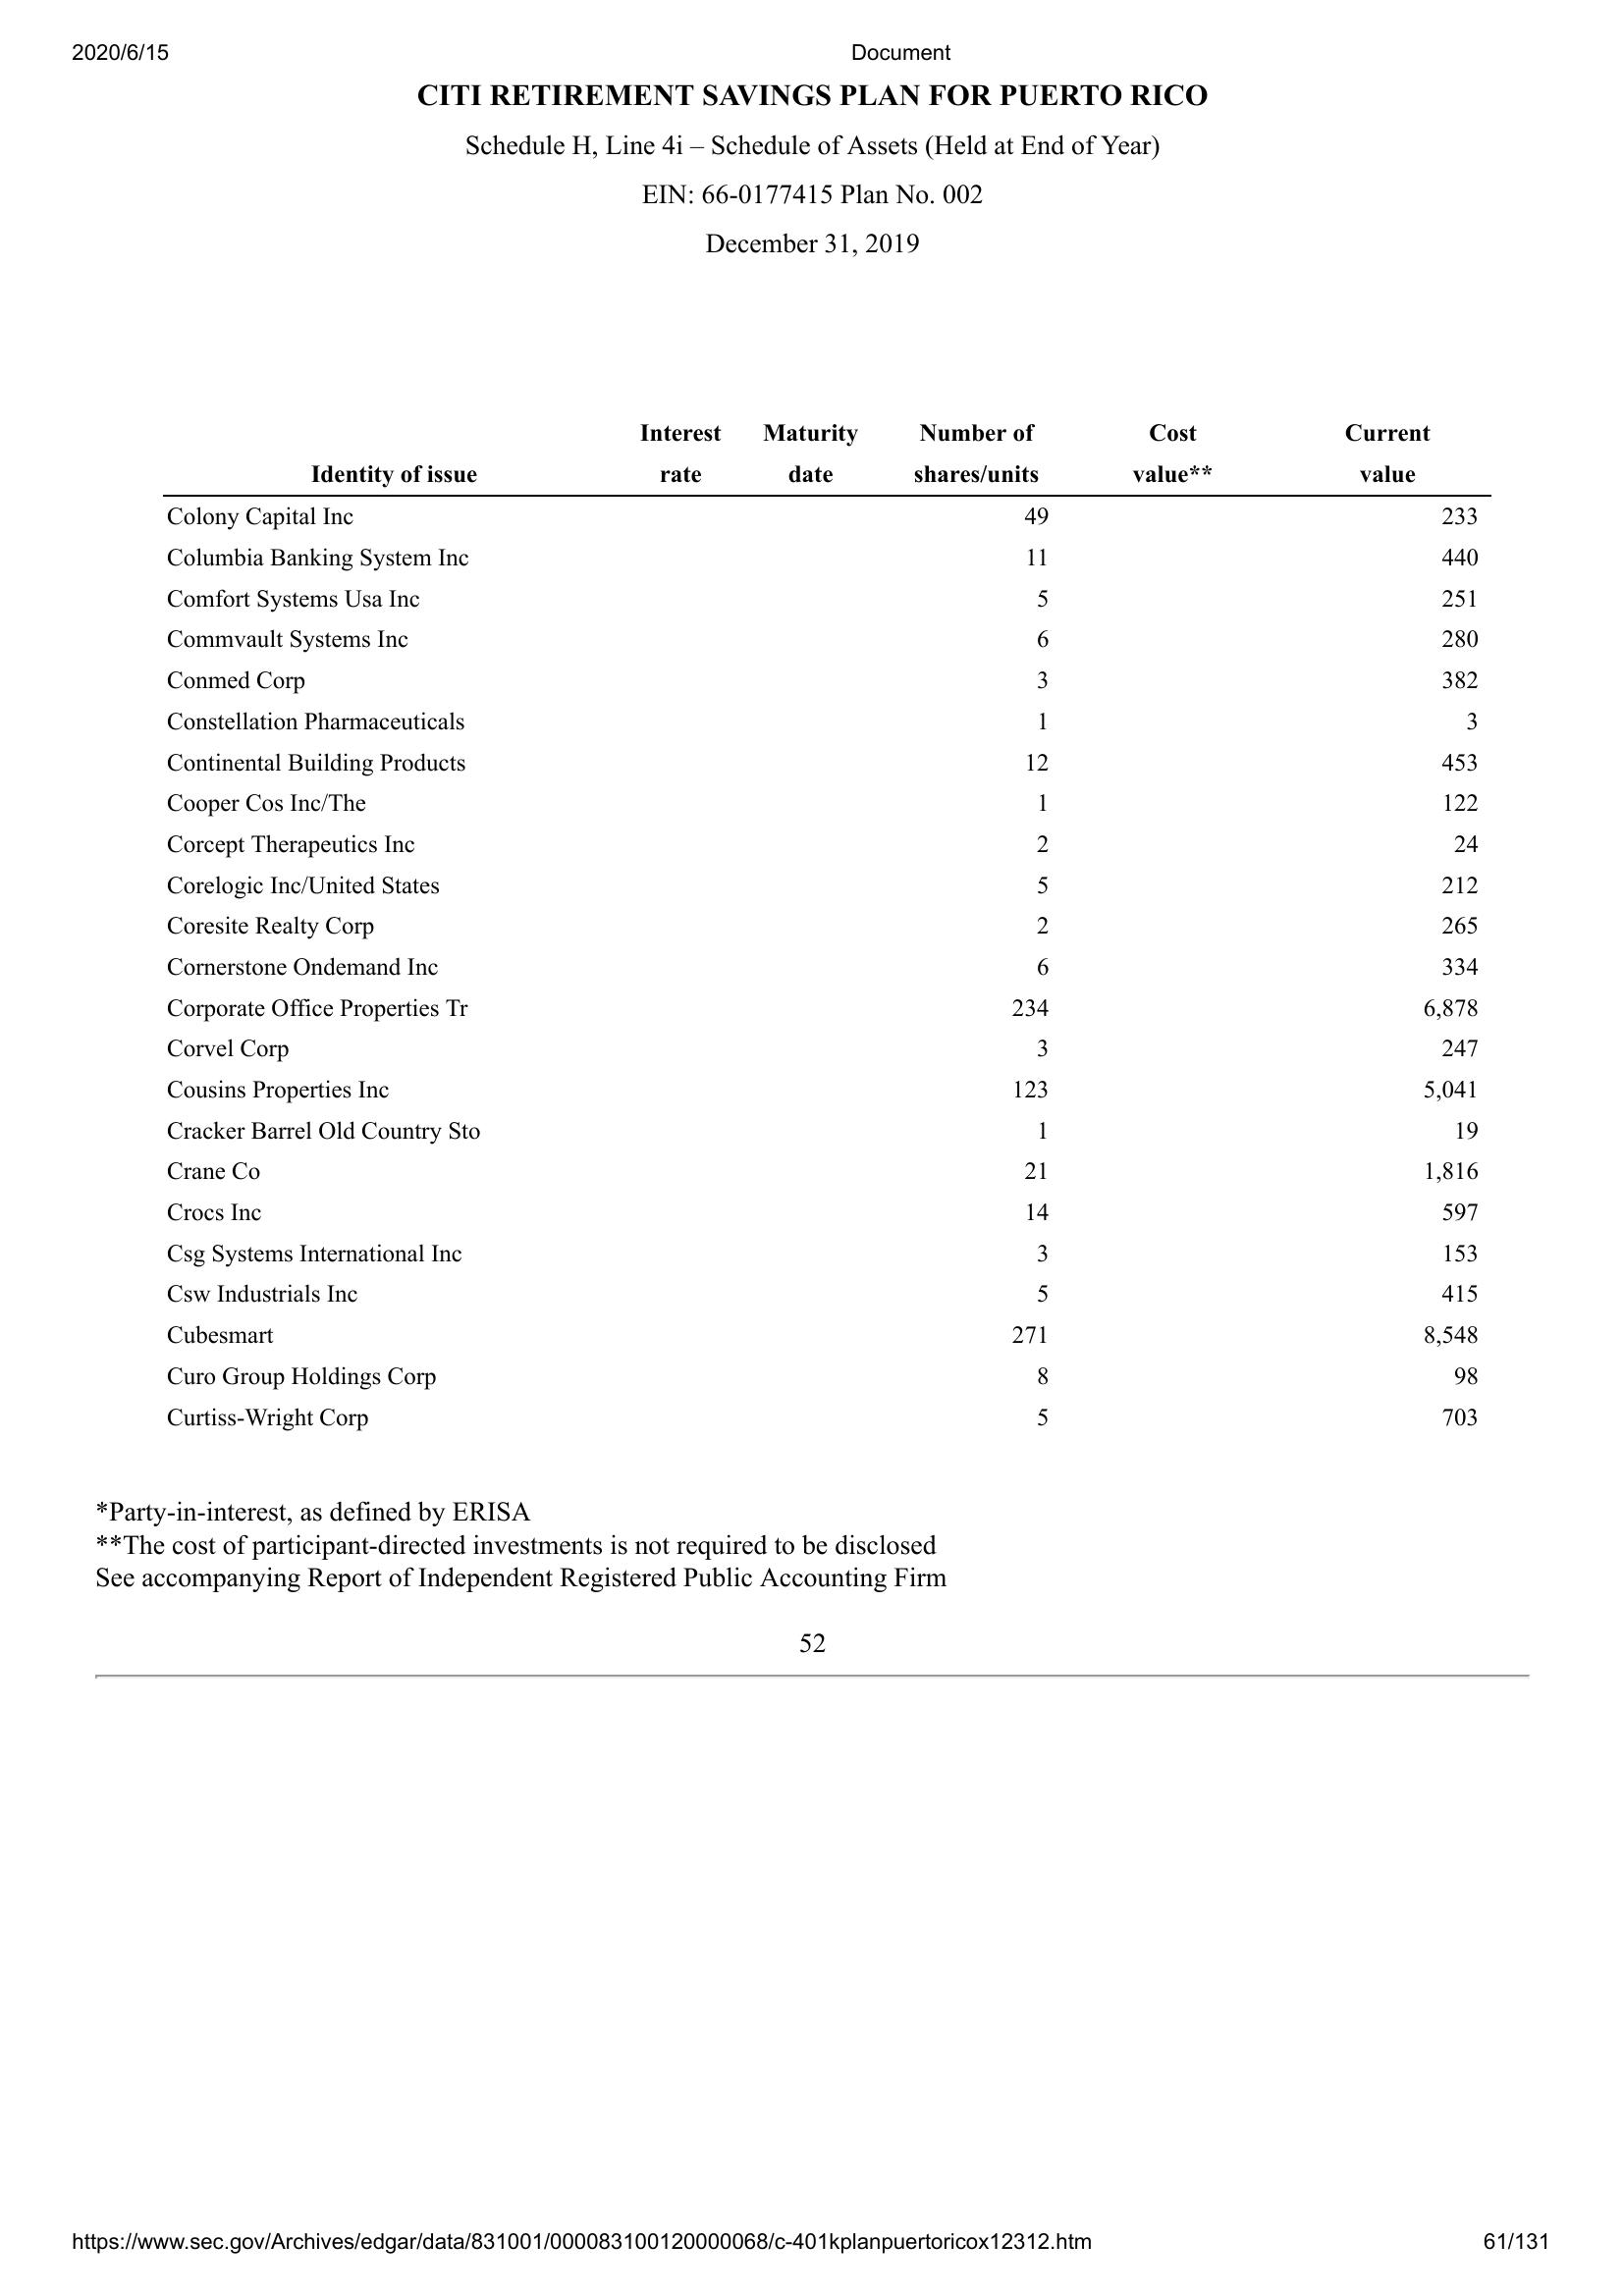table: (156, 413, 1491, 1445)
